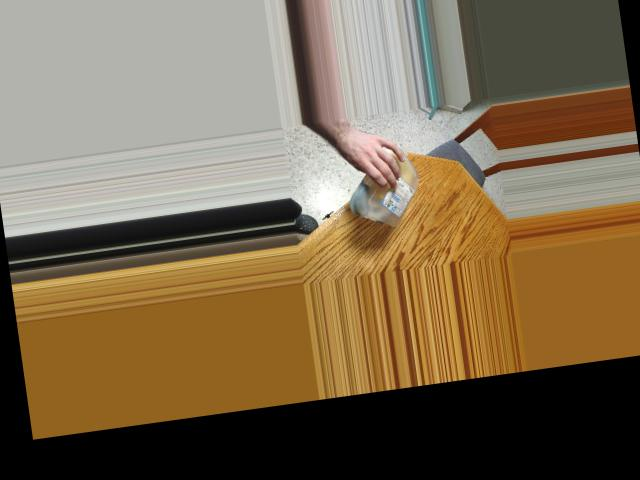cheese: (342, 136, 427, 235)
